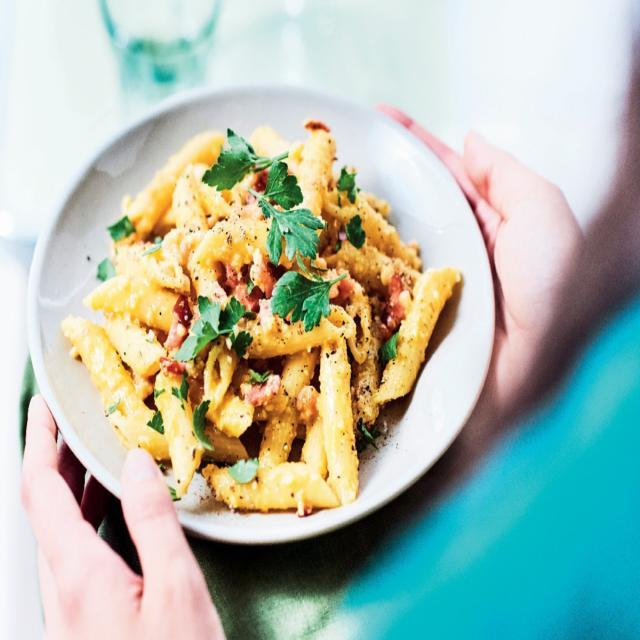Pasta with carbonara sauce: (65, 87, 474, 551)
